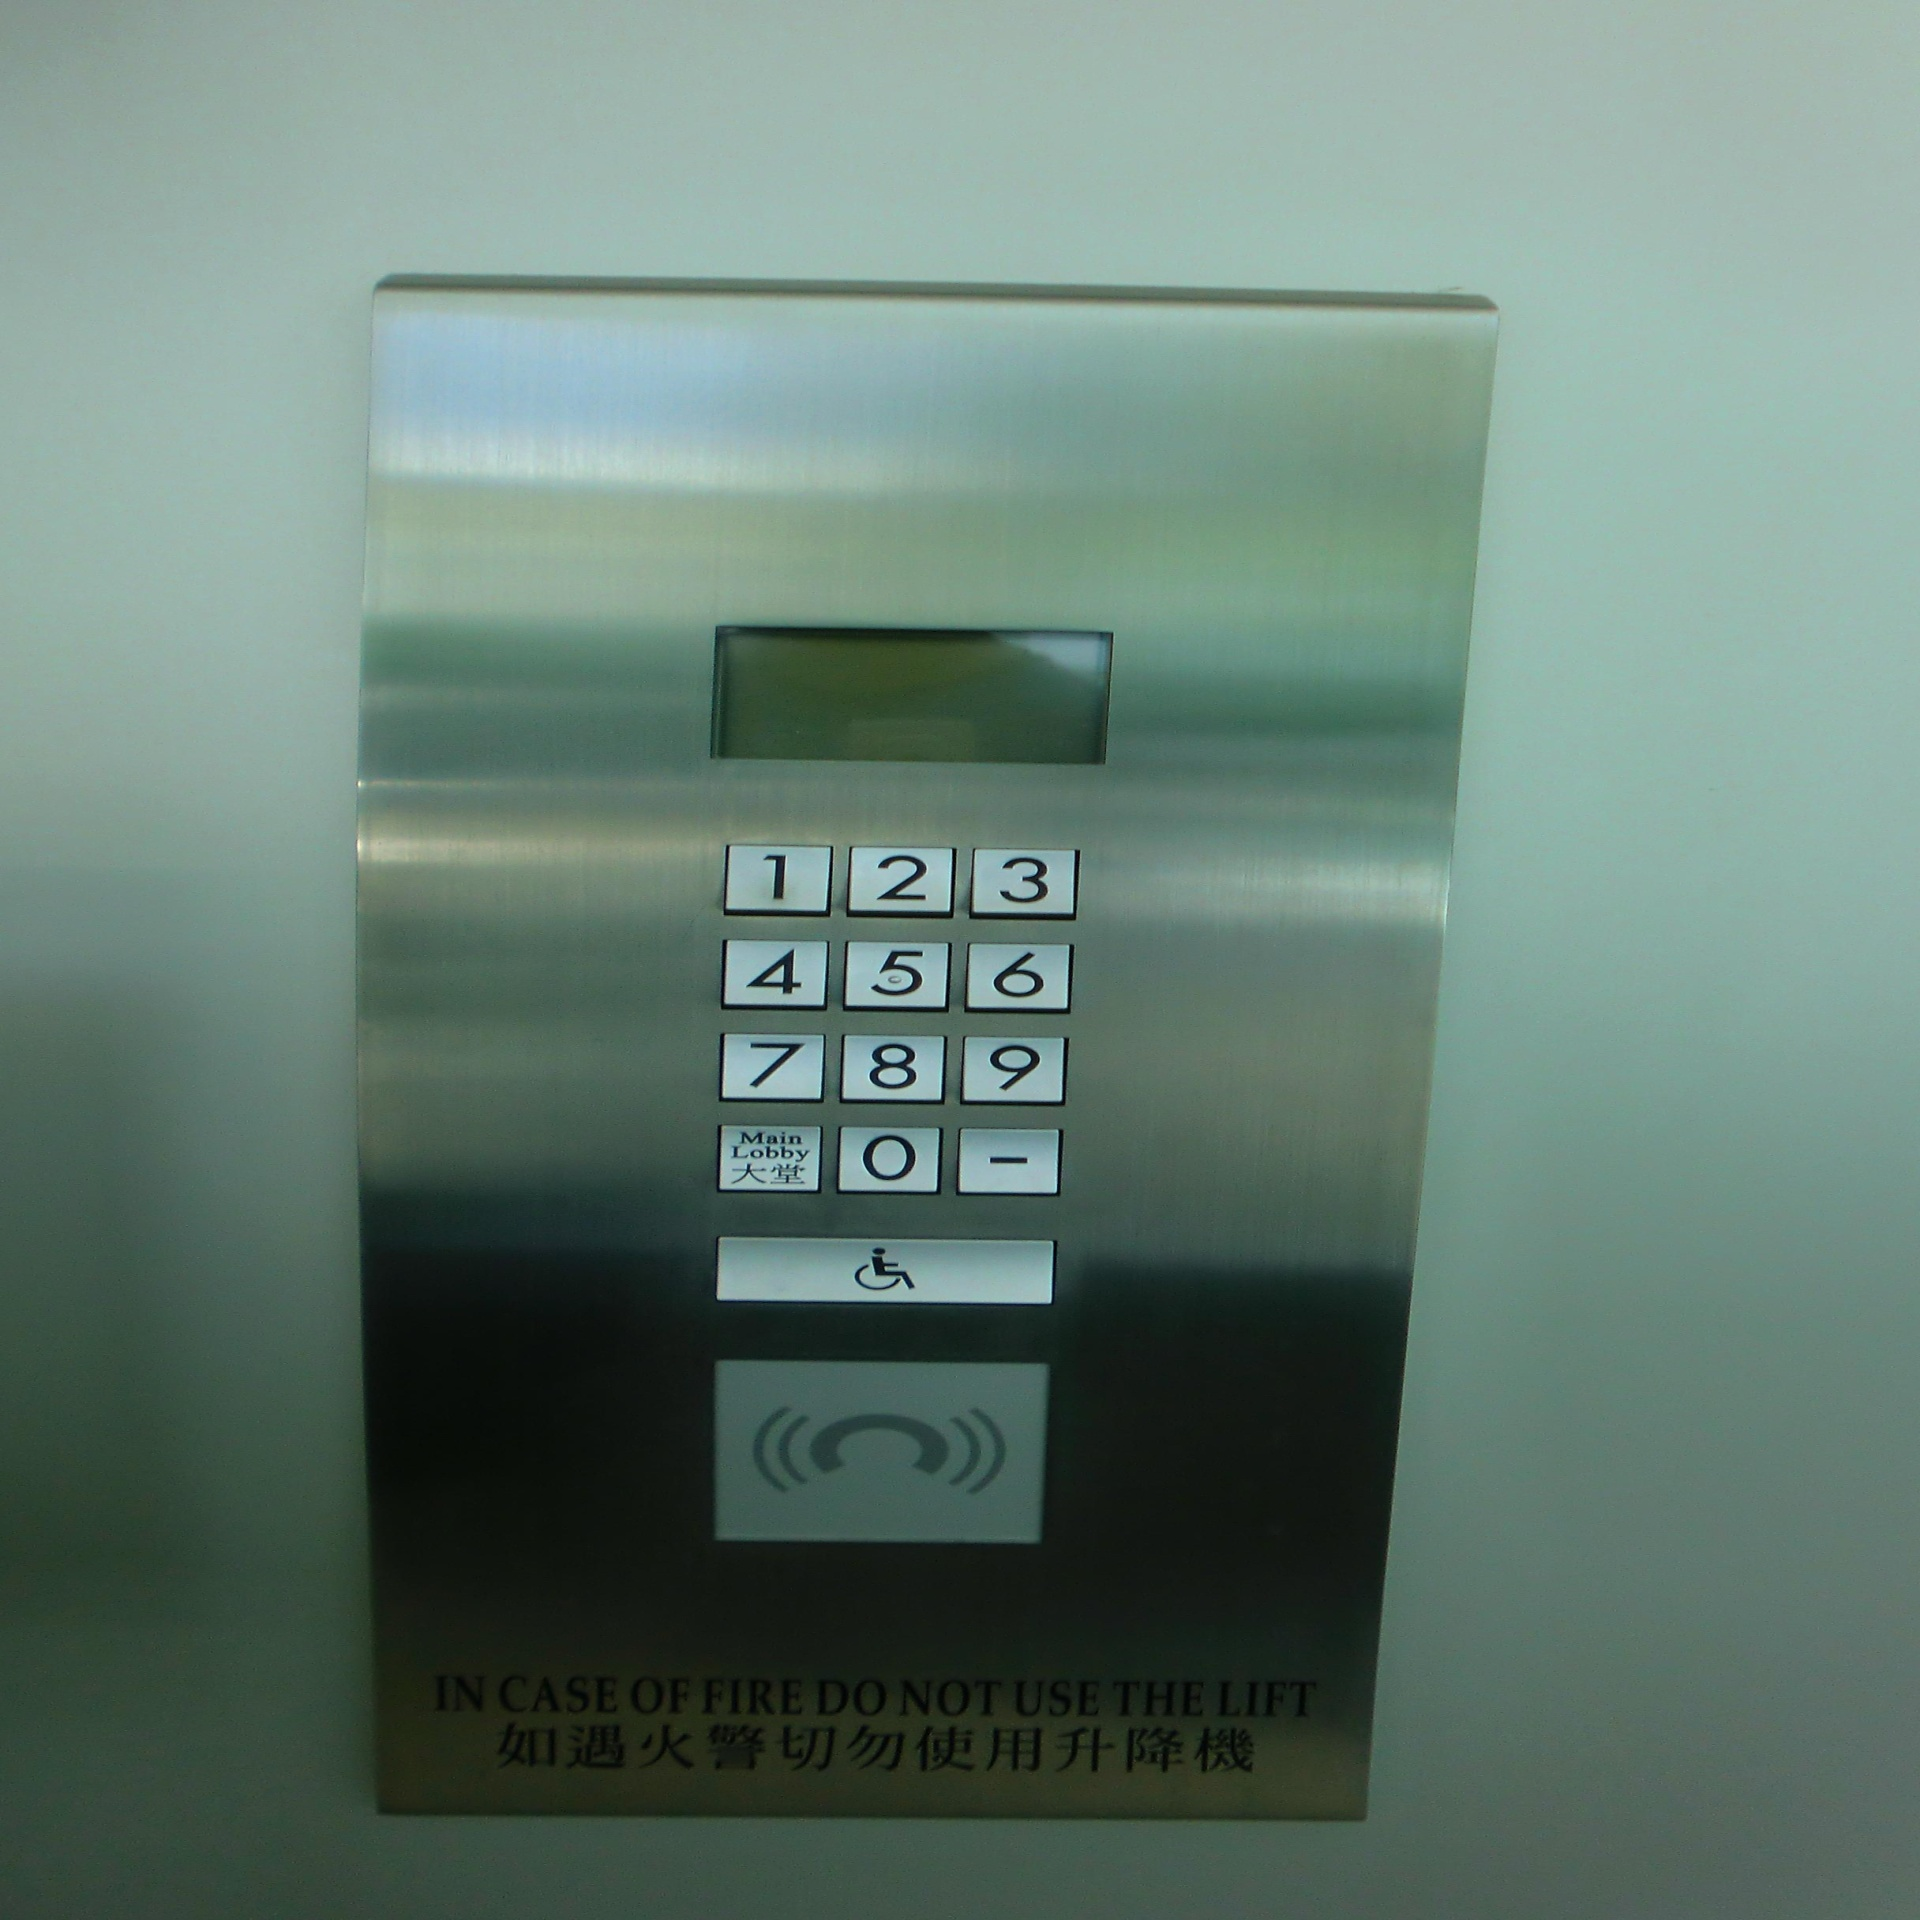-: (955, 1124, 1067, 1199)
0: (832, 1122, 946, 1197)
1: (721, 840, 835, 918)
2: (842, 842, 956, 920)
3: (964, 846, 1087, 925)
4: (723, 935, 833, 1011)
5: (844, 941, 951, 1013)
6: (960, 939, 1078, 1015)
7: (717, 1029, 830, 1104)
8: (839, 1030, 953, 1108)
9: (956, 1034, 1071, 1108)
CH: (716, 1233, 1057, 1306)
led: (700, 605, 1122, 775)
text: (717, 1122, 825, 1197)
